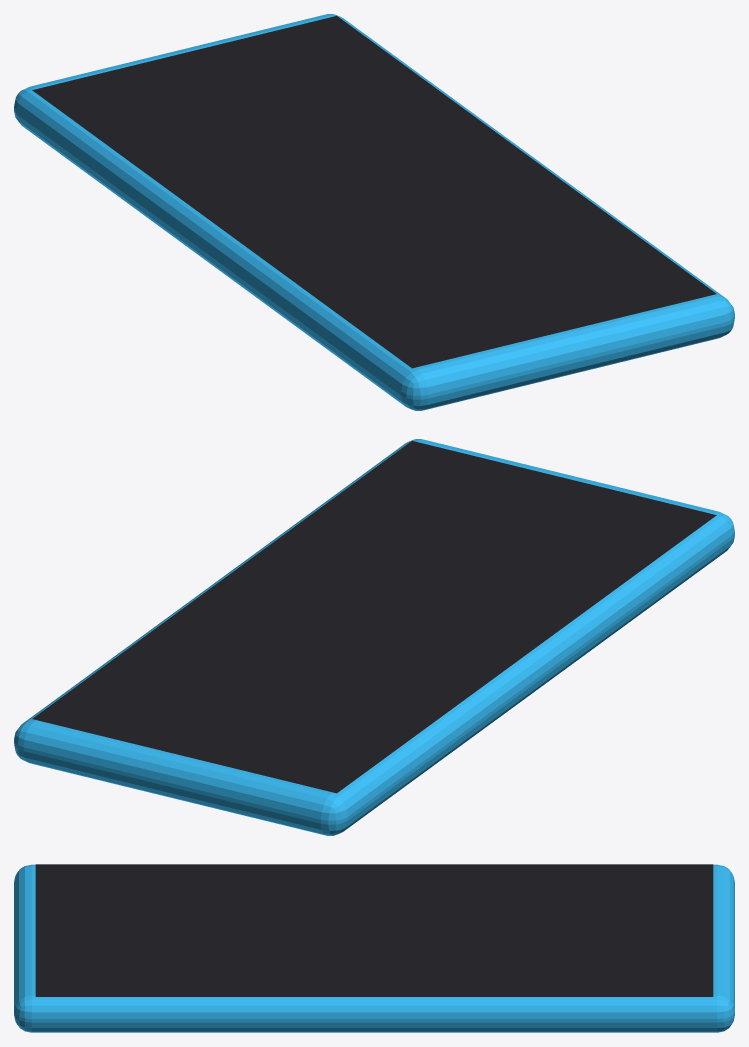
Rendered from oneplus-number-series-model-279-flagship-2023.glb.
The picture shows the model from 3 angles, top to bottom: view 1: azimuth 30°, elevation 25°; view 2: azimuth 150°, elevation 25°; view 3: azimuth 270°, elevation 25°; orthographic projection. The views are drawn at different scales.
Visible parts, largest first — view 1: Phone_Screen, Phone_Body; view 2: Phone_Screen, Phone_Body; view 3: Phone_Screen, Phone_Body.
Boxes of the visible parts, bbox=[...] form: Phone_Screen: bbox=[32, 16, 716, 368]; Phone_Body: bbox=[14, 14, 734, 410]; Phone_Screen: bbox=[32, 441, 716, 793]; Phone_Body: bbox=[14, 439, 734, 835]; Phone_Screen: bbox=[35, 864, 713, 996]; Phone_Body: bbox=[14, 864, 734, 1032].
Bounding box in the file's own units: 0.0758 × 0.0088 × 0.1602.
